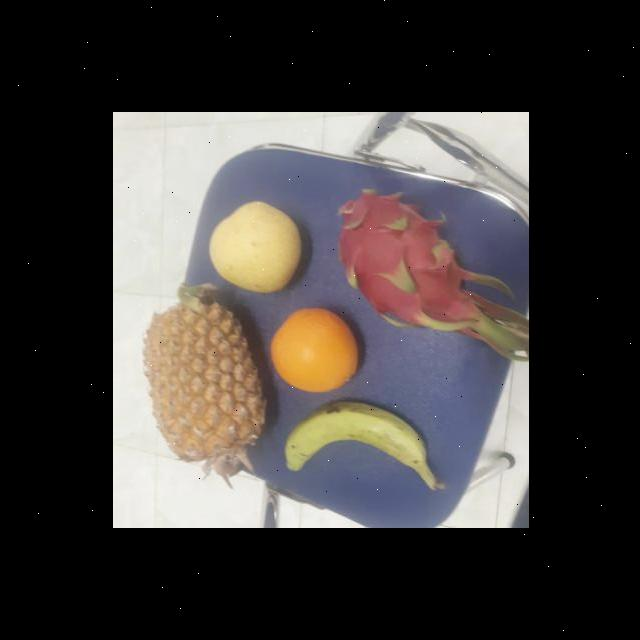banana: (284, 398, 429, 480)
guava: (210, 196, 302, 293)
pear: (270, 304, 362, 392)
pineapple: (144, 290, 268, 461)
pitaya: (338, 185, 472, 342)
